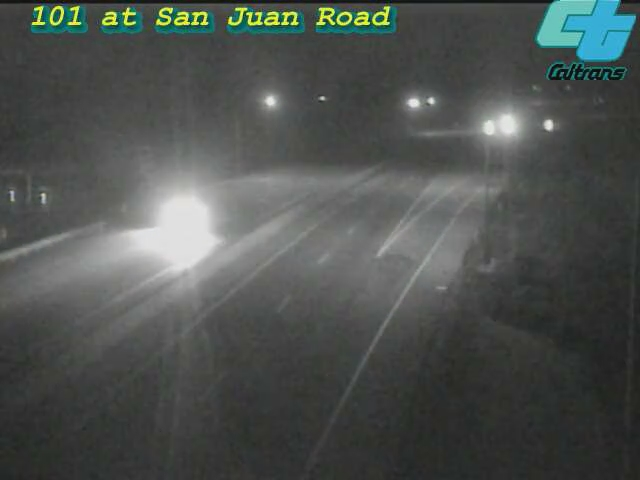vehicle: (146, 172, 226, 252), (524, 102, 574, 152), (464, 102, 514, 152), (481, 100, 531, 150)
